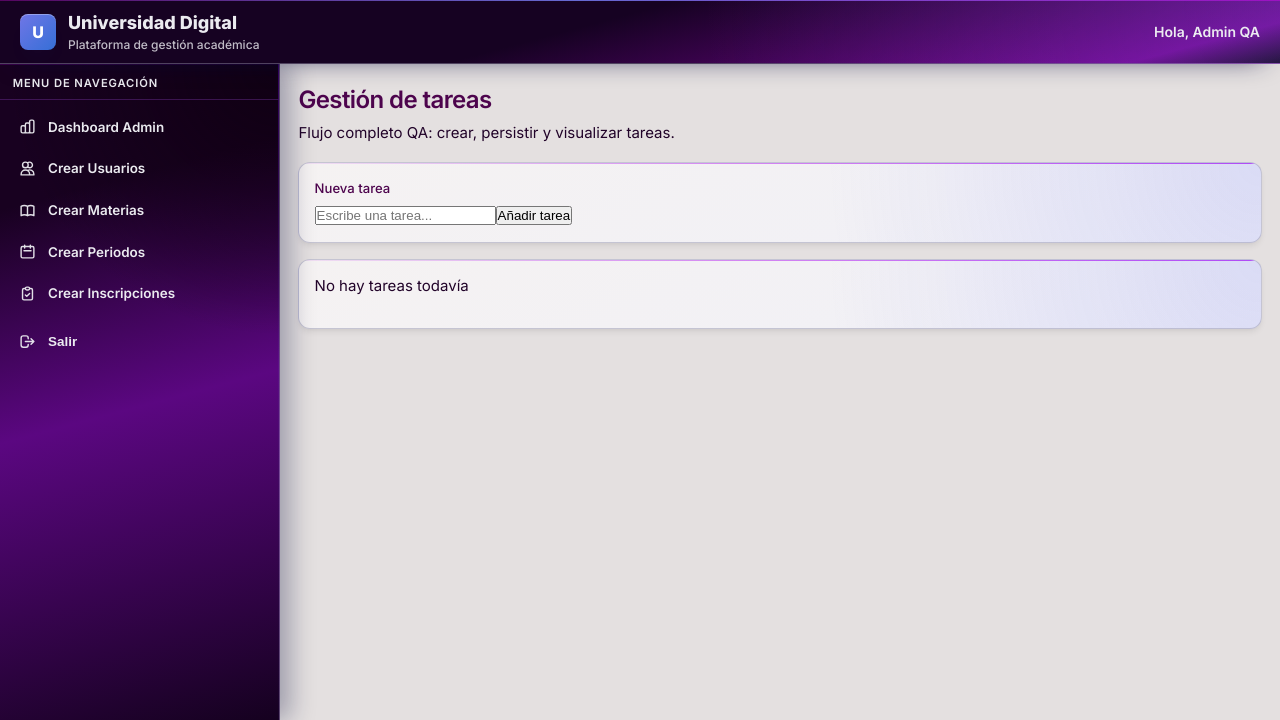
Tareas — Resiliencia y detección de fallos › Backend caído › muestra error cuando POST /tasks falla por network error
Type "Tarea que no llegará" into the field with id "task-title".
click(406, 216); type("Tarea que no llegará")  # box [315,206,496,225]
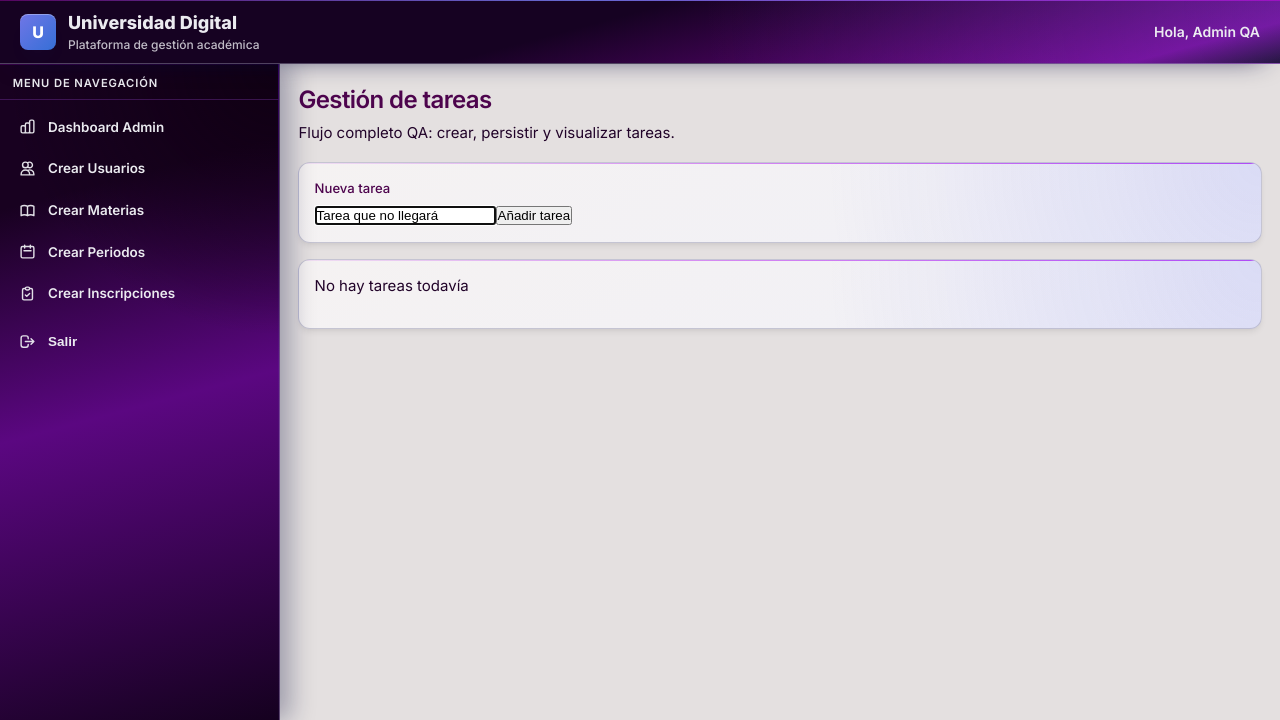
Click the submit button.
click(535, 216)  # box [496,206,573,225]
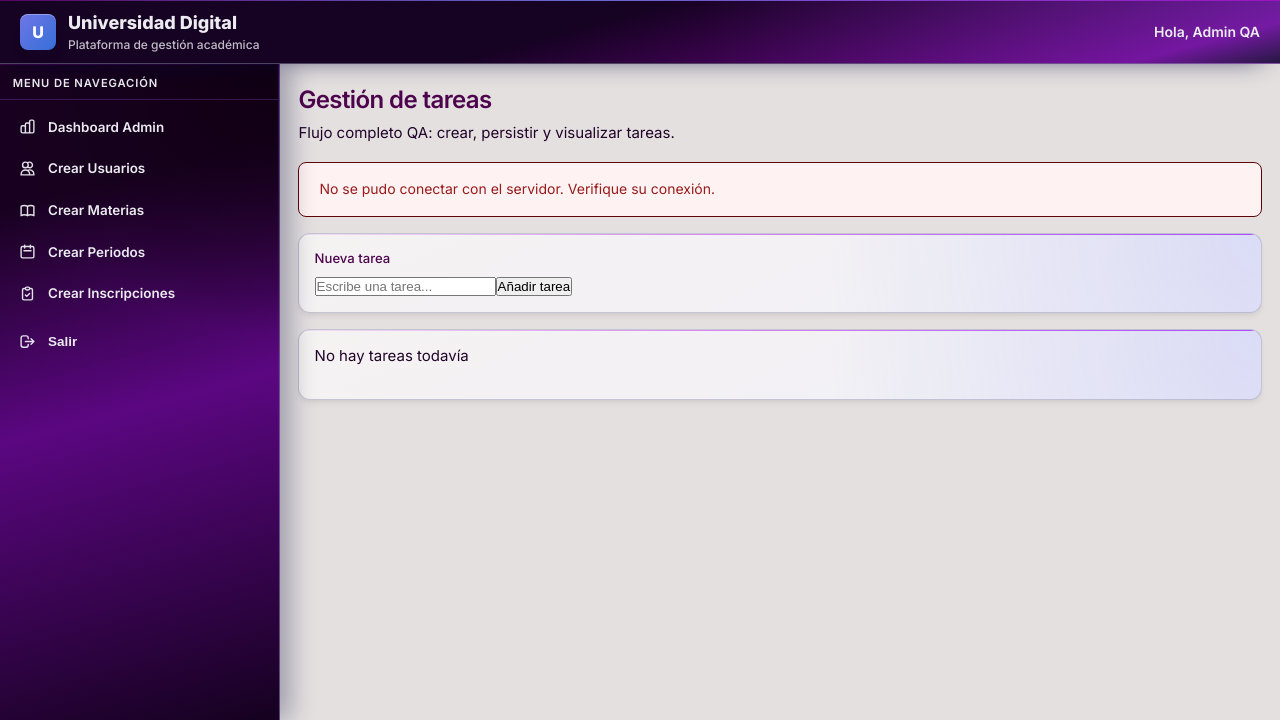
Check: the message "No se pudo conectar con el servidor. Verifique su conexión." is shown, box [298,162,1262,217]
